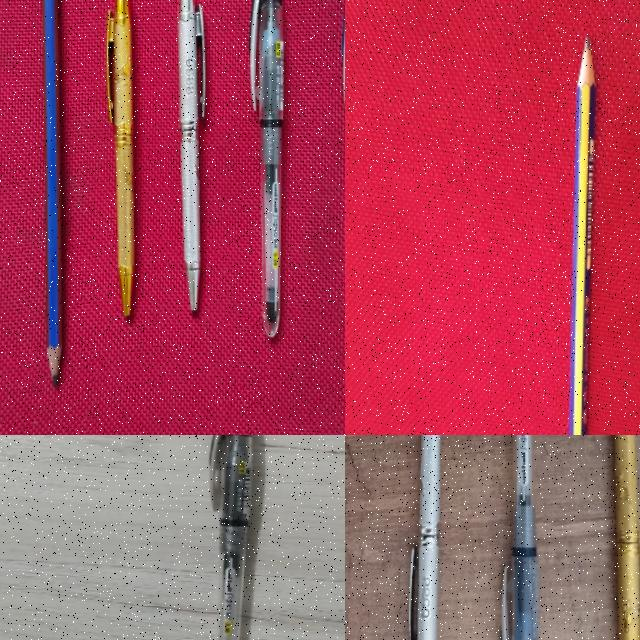pen: (244, 0, 286, 338), (499, 435, 544, 640), (210, 435, 252, 639)
pencil: (29, 0, 75, 382), (569, 38, 595, 434)
signature pen: (101, 0, 145, 321), (176, 0, 211, 315), (406, 435, 445, 640), (607, 435, 640, 640)
